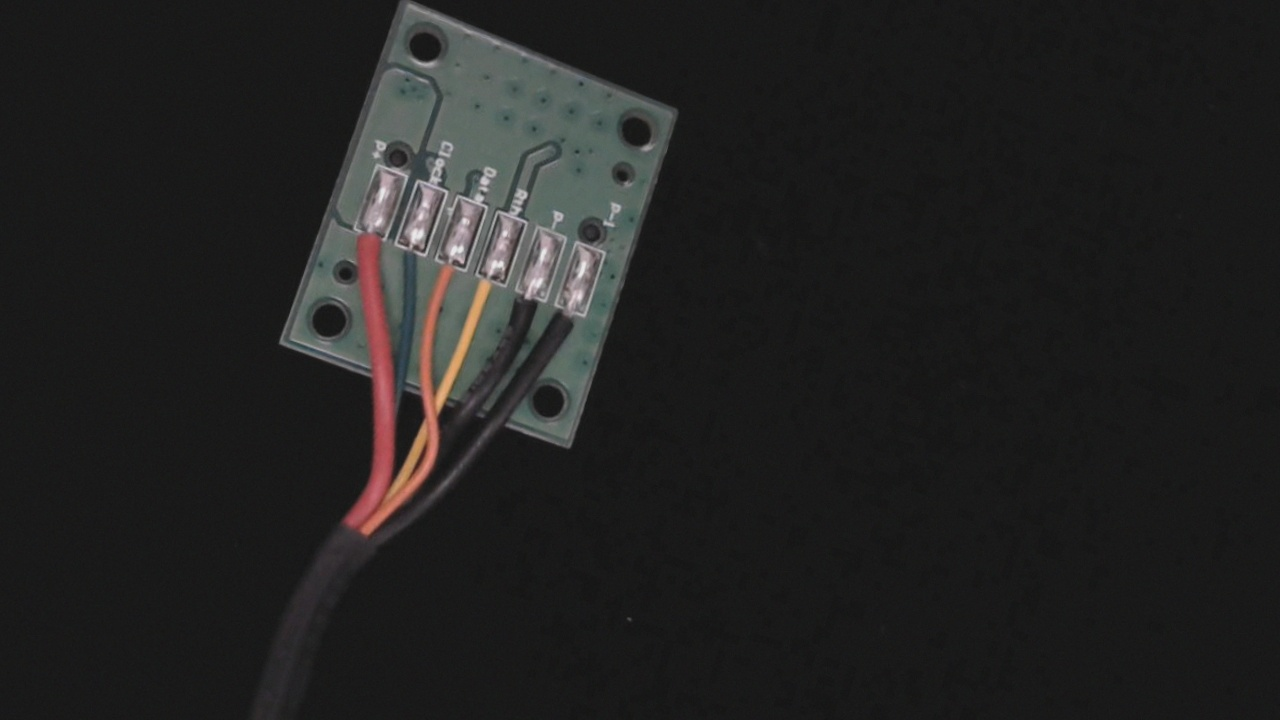Black: (496, 268, 553, 352)
Black1: (534, 285, 594, 372)
Green: (379, 225, 436, 307)
Orange: (416, 239, 472, 323)
Red: (338, 210, 395, 293)
Yellow: (461, 254, 511, 332)
